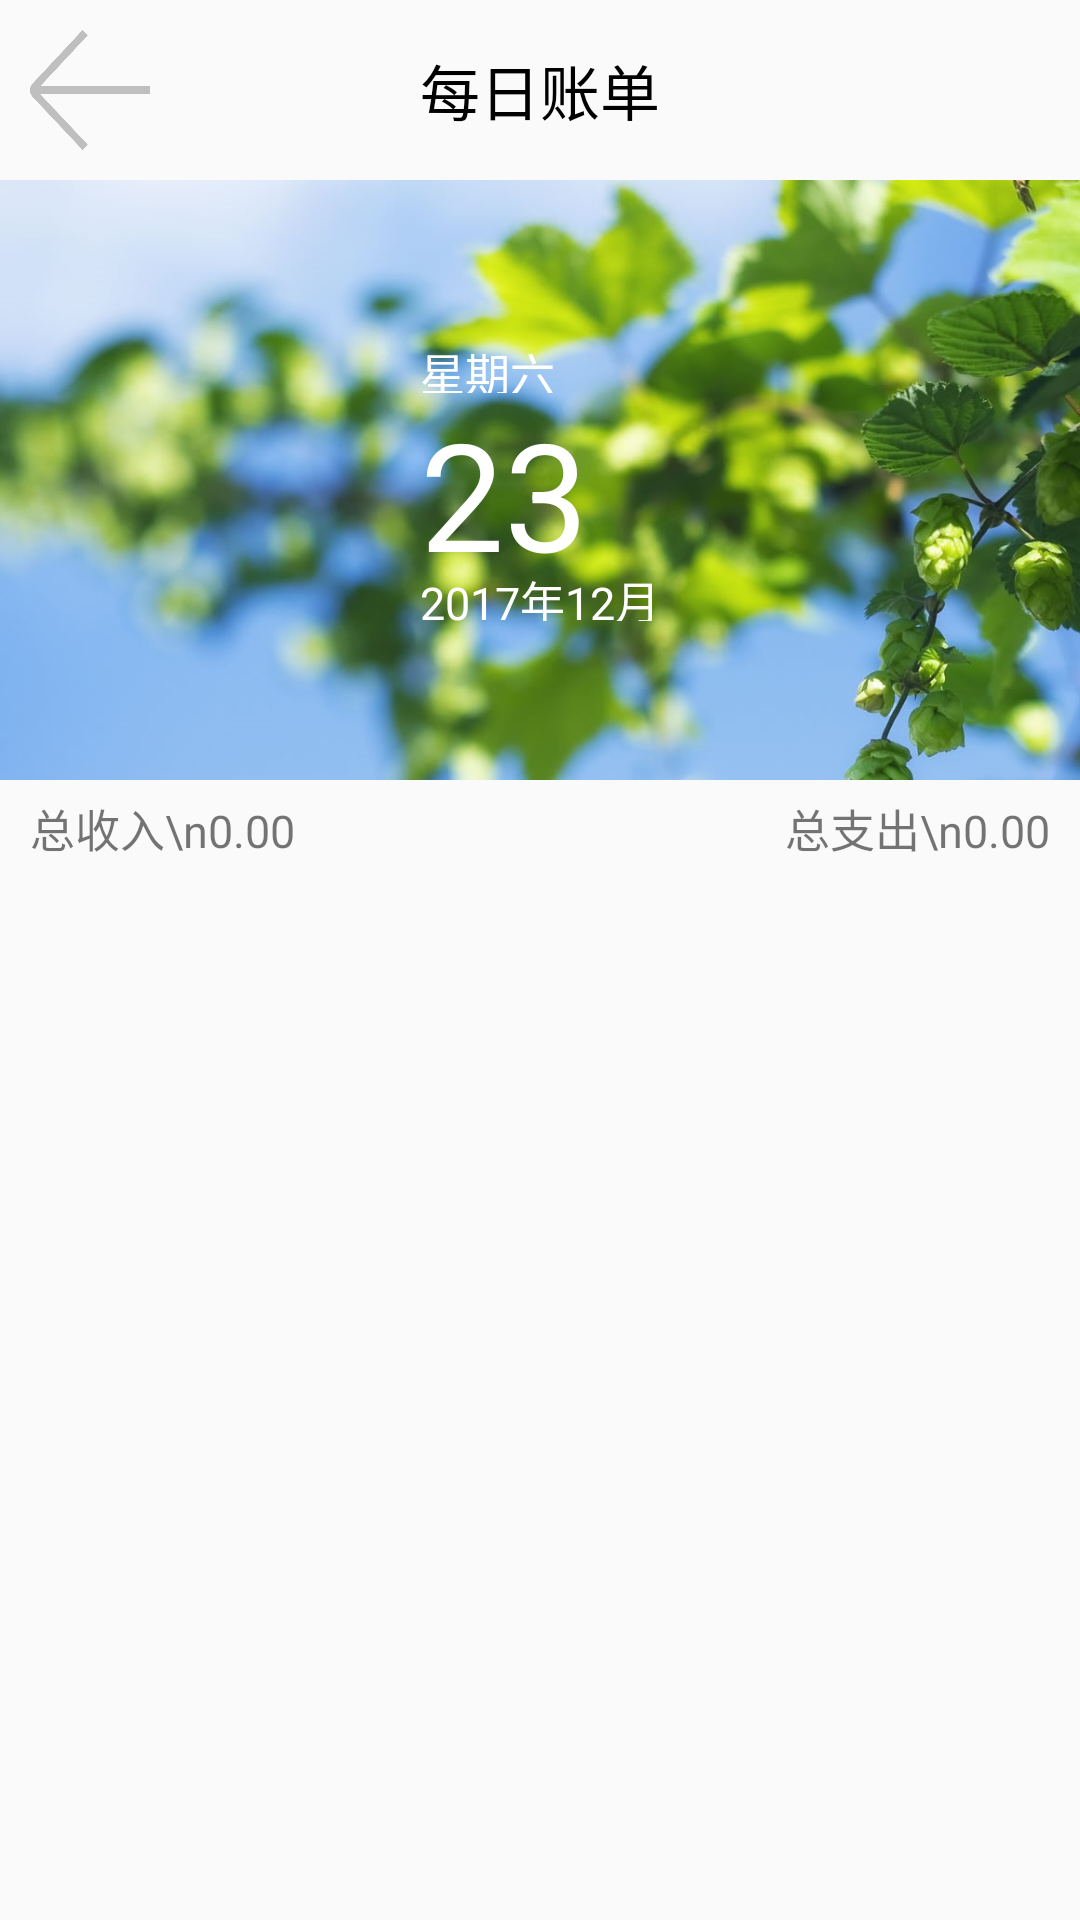

Locate icon controls on the screen. Image size 1080×1920, boxes as bbox(x1, y1, x2, y2).
back: bbox(30, 30, 150, 150)
